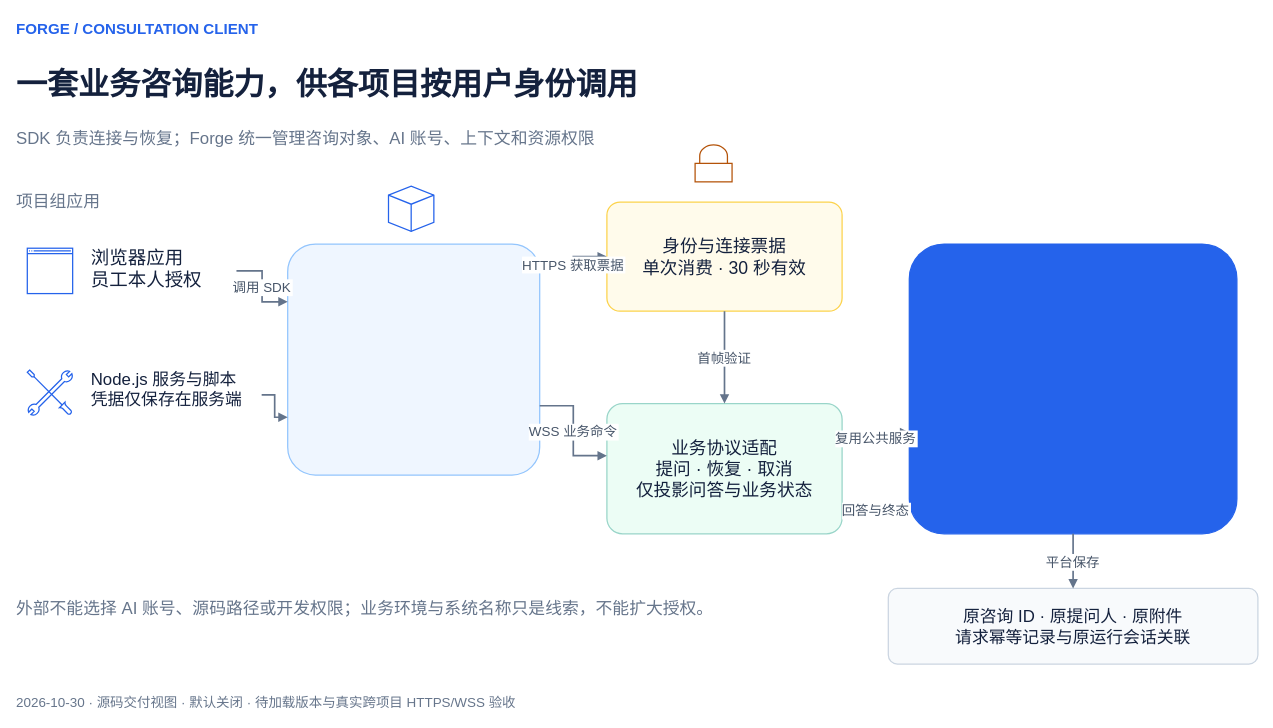
This 1273x728 diagram has some shape labels left out. Each missing label, with the centre of its shape:
Forge Consult Client 提问 · 附件 · 流式事件 重连 · 历史 · 检查点: (413,359)
现有业务咨询核心 系统自动定位 默认 AI 账号逐轮解析 上下文接续与只读资源授权 既有聊天执行与持久历史: (1072,388)
